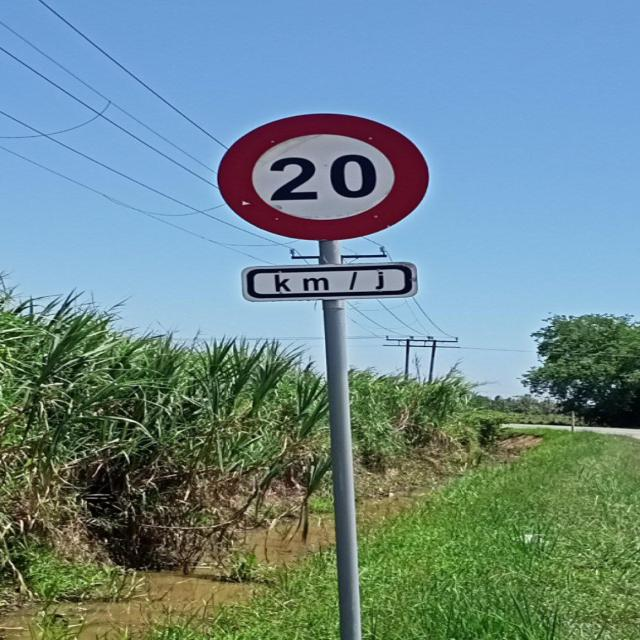speedlimit_20: (215, 113, 434, 237)
